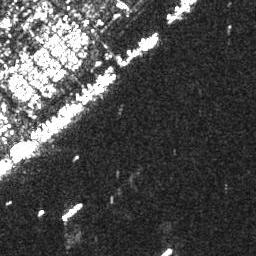ship: (59, 202, 83, 222), (144, 33, 158, 52), (102, 73, 116, 87), (35, 209, 45, 217), (71, 154, 80, 162), (109, 194, 114, 203)
